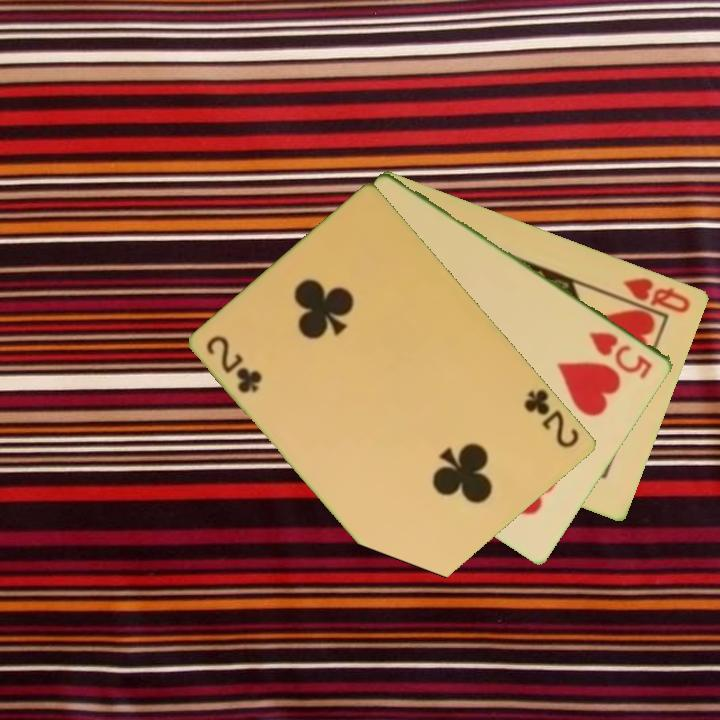2c: (521, 385, 583, 451), (203, 332, 265, 396)
5h: (586, 328, 656, 382)
Qh: (619, 273, 694, 316)
